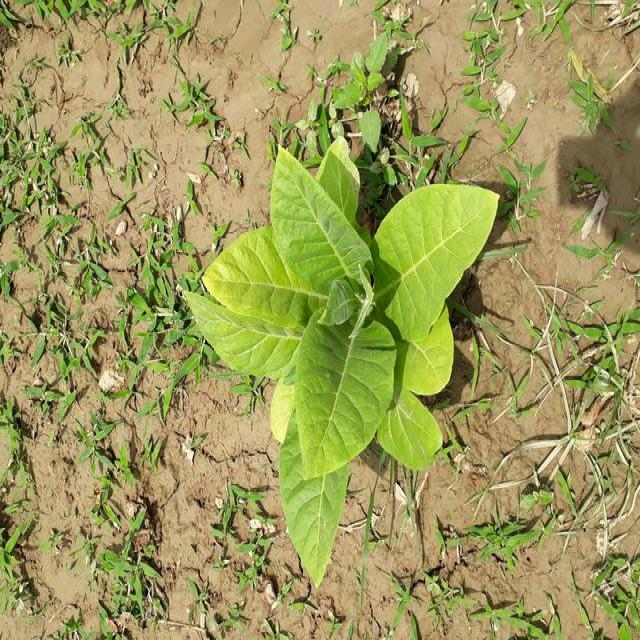crop: (207, 127, 487, 582)
